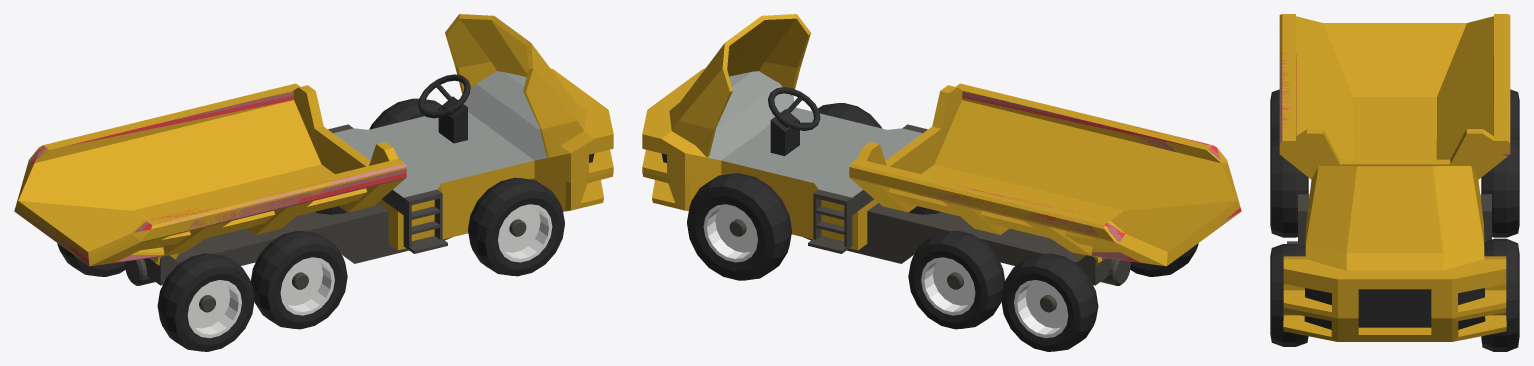
File: Truck.fbx
3 renders of one model, left to right at view 1: azimuth 30°, elevation 25°; view 2: azimuth 150°, elevation 25°; view 3: azimuth 270°, elevation 25°, orthographic. The views are drawn at different scales.
Visible parts, largest first — view 1: TruckLoad, Truck.001, TruckLoad.008, Truck.003, TruckWheelRR2, TruckWheelFR, TruckWheelRR1, TruckBody, TruckLoad.002, TruckLoad.009, Truck.Glass, TruckLoad.003 (+12 smaller); view 2: TruckLoad, Truck.001, Truck.003, TruckWheelFL, TruckWheelRL2, TruckWheelRL1, TruckBody, TruckLoad.004, Truck.Glass, TruckLoad.009, TruckLoad.002, TruckLoad.003 (+11 smaller); view 3: TruckLoad, Truck.003, Truck.Glass, TruckLoad.004, Truck.008, TruckLoad.008, TruckWheelRL1, TruckWheelRR1, TruckWheelFL, TruckWheelFR, TruckLoad.006, Truck.001 (+7 smaller).
Boxes of the visible parts, x1,y1,x2,y2 form: TruckLoad: (14, 83, 405, 266); Truck.001: (328, 112, 534, 250); TruckLoad.008: (98, 100, 321, 199); Truck.003: (463, 68, 613, 211); TruckWheelRR2: (157, 253, 254, 351); TruckWheelFR: (468, 177, 564, 276); TruckWheelRR1: (251, 231, 347, 329); TruckBody: (143, 203, 452, 285); TruckLoad.002: (130, 163, 406, 243); TruckLoad.009: (89, 179, 404, 265); Truck.Glass: (459, 14, 577, 120); TruckLoad.003: (28, 90, 293, 163); TruckLoad: (849, 83, 1241, 266); Truck.001: (721, 107, 927, 250); Truck.003: (642, 68, 793, 210); TruckWheelFL: (687, 173, 791, 280); TruckWheelRL2: (1001, 253, 1098, 351); TruckWheelRL1: (908, 231, 1004, 329); TruckBody: (803, 203, 1112, 285); TruckLoad.004: (1078, 201, 1241, 265); Truck.Glass: (678, 14, 796, 120); TruckLoad.009: (1115, 154, 1237, 208); TruckLoad.002: (962, 90, 1227, 163); TruckLoad.003: (882, 167, 1124, 243); TruckLoad: (1279, 14, 1510, 179); Truck.003: (1283, 256, 1506, 341); Truck.Glass: (1306, 166, 1483, 252); TruckLoad.004: (1324, 23, 1466, 96); Truck.008: (1305, 244, 1484, 270); TruckLoad.008: (1437, 29, 1493, 159); TruckWheelRL1: (1481, 136, 1519, 237); TruckWheelRR1: (1270, 136, 1308, 237); TruckWheelFL: (1481, 238, 1519, 351); TruckWheelFR: (1270, 244, 1308, 346); TruckLoad.006: (1449, 129, 1507, 179); Truck.001: (1298, 194, 1491, 247).
Bounding box in the file's own units: 11.43 × 4.09 × 4.53.
Materials: 1 (1 with a texture image).
